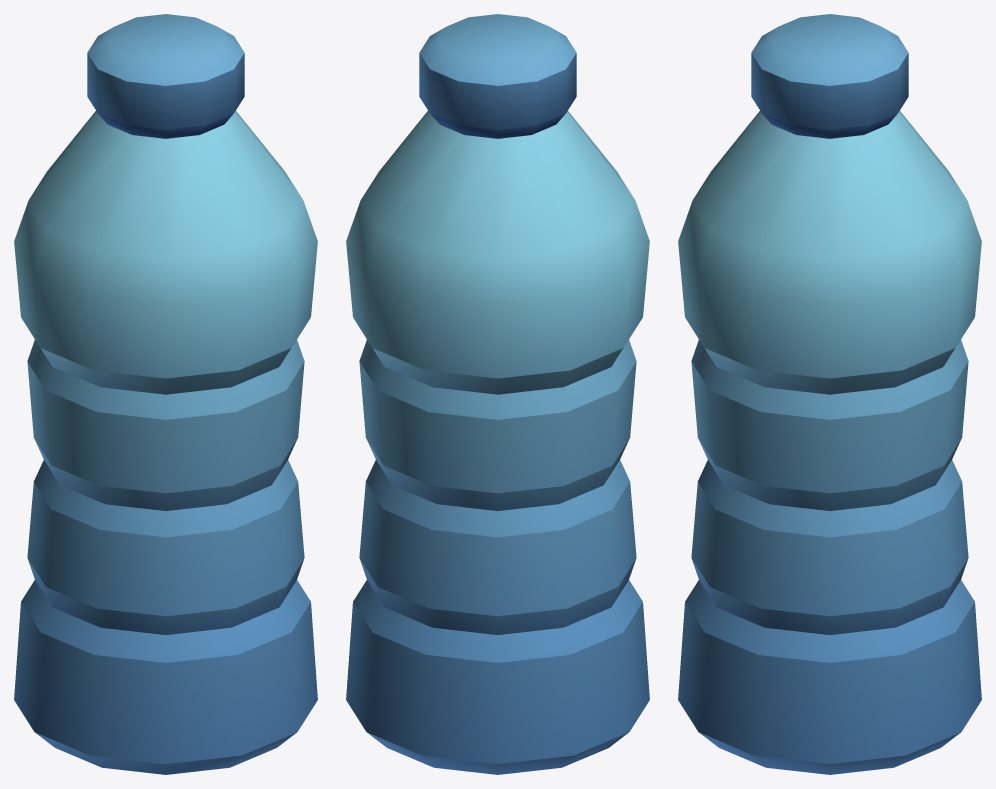
The model's file is waterbottle_A.glb.
3 renders of one model, left to right at view 1: azimuth 30°, elevation 25°; view 2: azimuth 150°, elevation 25°; view 3: azimuth 270°, elevation 25°, orthographic.
Visible parts, largest first — view 1: waterbottle_A; view 2: waterbottle_A; view 3: waterbottle_A.
Boxes of the visible parts, x1,y1,x2,y2 form: waterbottle_A: (14, 14, 317, 774); waterbottle_A: (346, 14, 649, 774); waterbottle_A: (678, 14, 981, 774).
Size of the model in its own units: 0.3293 by 0.8153 by 0.3293.
1 material, 1 textured.
